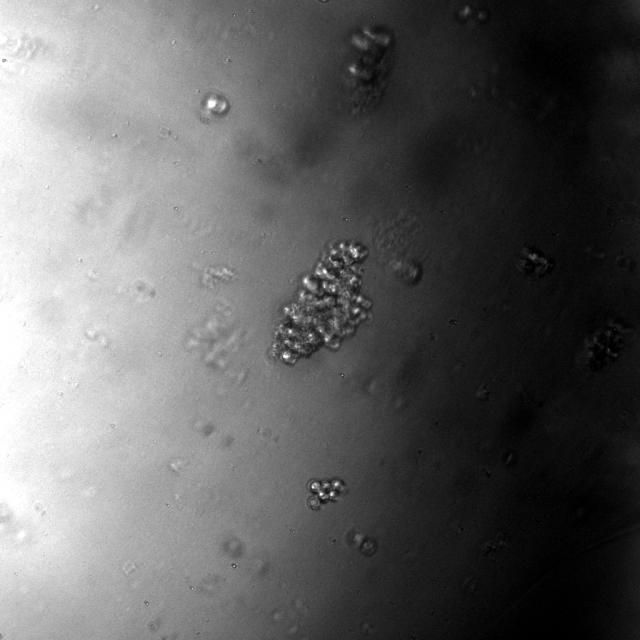organoid: (271, 240, 371, 365), (307, 477, 346, 510), (199, 91, 230, 124), (347, 530, 378, 557)
